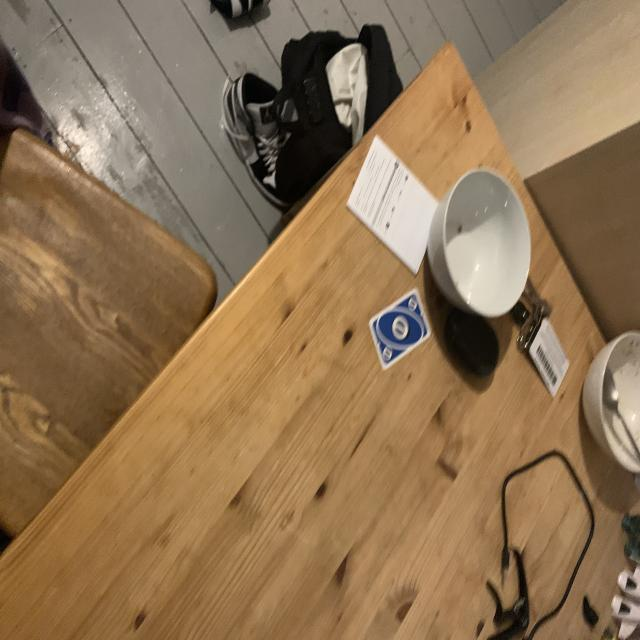lblueskip-20: (405, 296, 421, 316)
